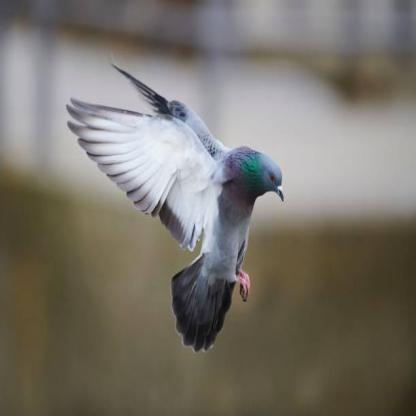Rock Pigeon: (164, 99, 284, 355)
